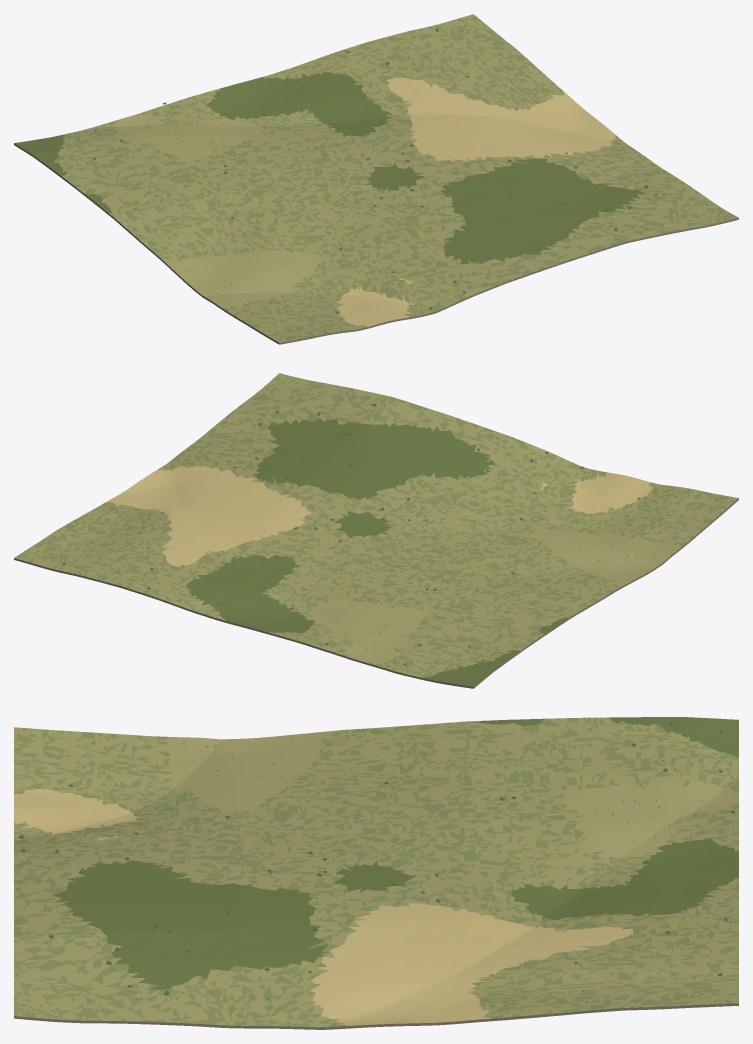
Rendered from parca_+0_-4-yakin.glb.
3 views of the same model, one above another, from view 1: azimuth 30°, elevation 25°; view 2: azimuth 150°, elevation 25°; view 3: azimuth 270°, elevation 25° (orthographic). The views are drawn at different scales.
Visible parts, largest first — view 1: parca_+0_-4_arazi, parca_+0_-4_bitkiler; view 2: parca_+0_-4_arazi, parca_+0_-4_bitkiler; view 3: parca_+0_-4_arazi, parca_+0_-4_bitkiler.
Boxes of the visible parts, bbox=[...] form: parca_+0_-4_arazi: bbox=[14, 14, 738, 344]; parca_+0_-4_bitkiler: bbox=[22, 20, 731, 335]; parca_+0_-4_arazi: bbox=[14, 373, 738, 688]; parca_+0_-4_bitkiler: bbox=[24, 394, 706, 674]; parca_+0_-4_arazi: bbox=[14, 717, 738, 1029]; parca_+0_-4_bitkiler: bbox=[18, 720, 735, 1018].
Bounding box in the file's own units: 1000 × 71.75 × 1000.
